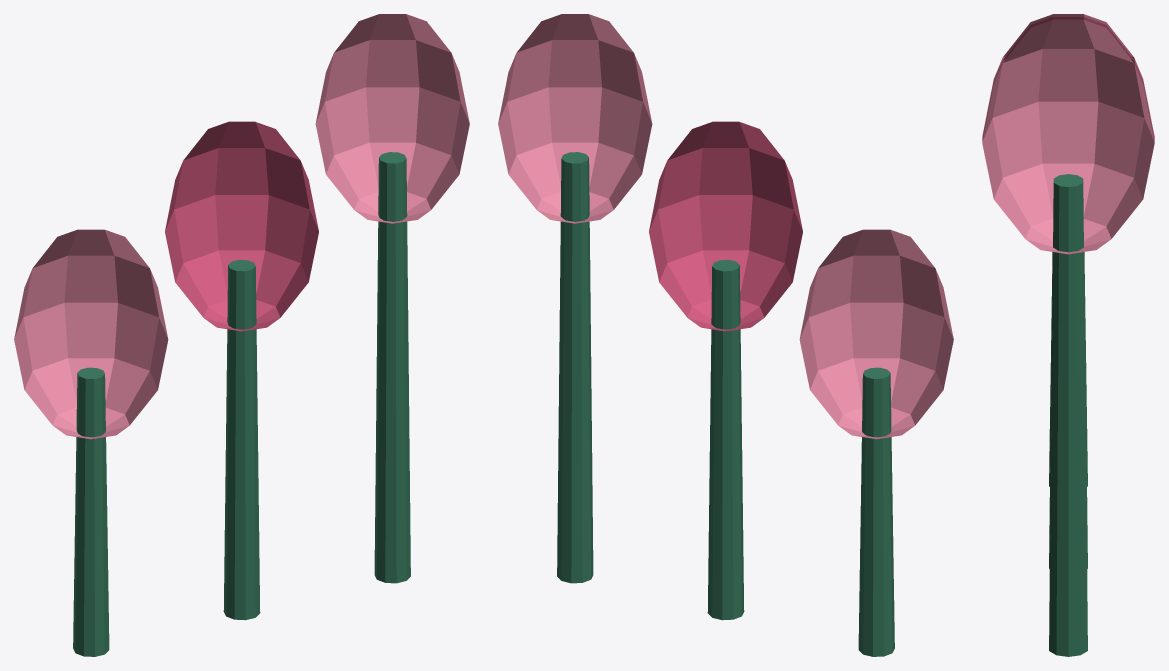
The model's file is turning-seasons-tulip-clump-e6a56b00__2111.glb.
3 renders of one model, left to right at view 1: azimuth 30°, elevation 25°; view 2: azimuth 150°, elevation 25°; view 3: azimuth 270°, elevation 25°, orthographic. The views are drawn at different scales.
Visible parts, largest first — view 1: tulip-clump; view 2: tulip-clump; view 3: tulip-clump.
Boxes of the visible parts, <box> form: tulip-clump: <box>14,14,469,656</box>; tulip-clump: <box>498,14,953,656</box>; tulip-clump: <box>982,14,1154,656</box>.
Bounding box in the file's own units: 0.5746 × 0.71 × 0.1773.
